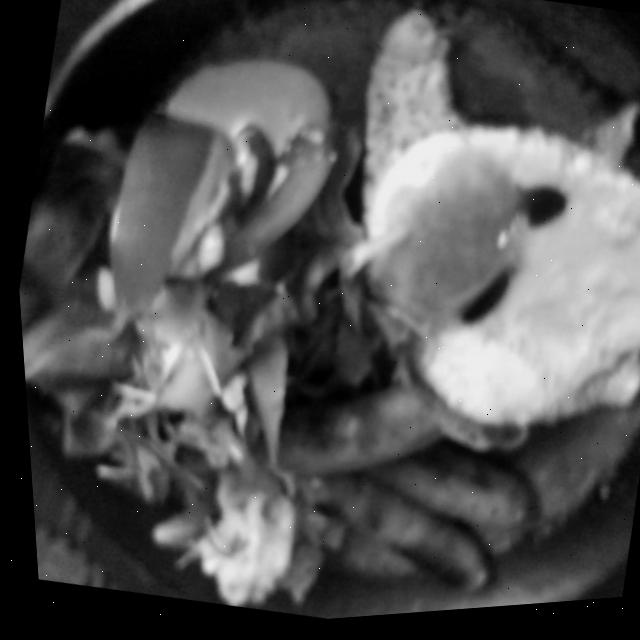鸡蛋料理: (323, 75, 640, 491)
